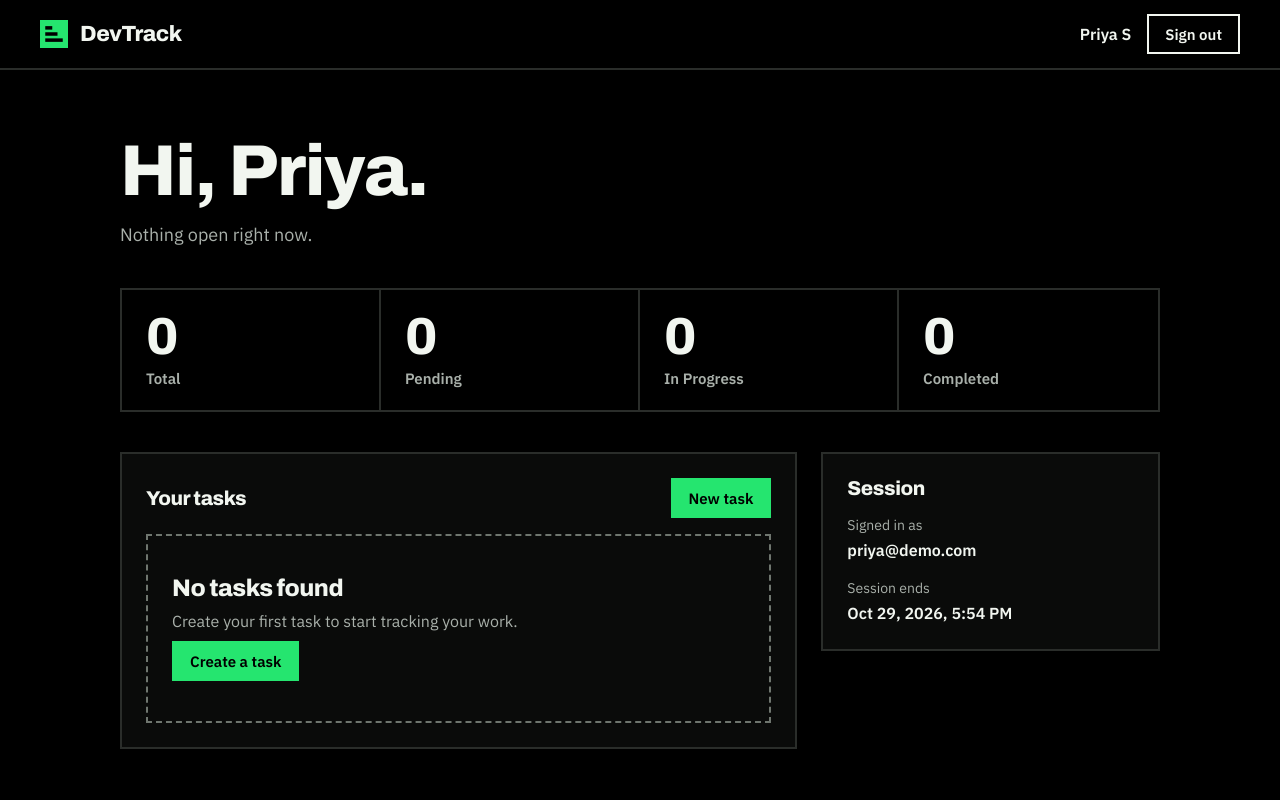
it: Sign out (FR-13) › removes a sessionStorage session as well (not "Keep me signed in")
Click the button "Sign out" at (1194, 34), box [1147,14,1240,54]
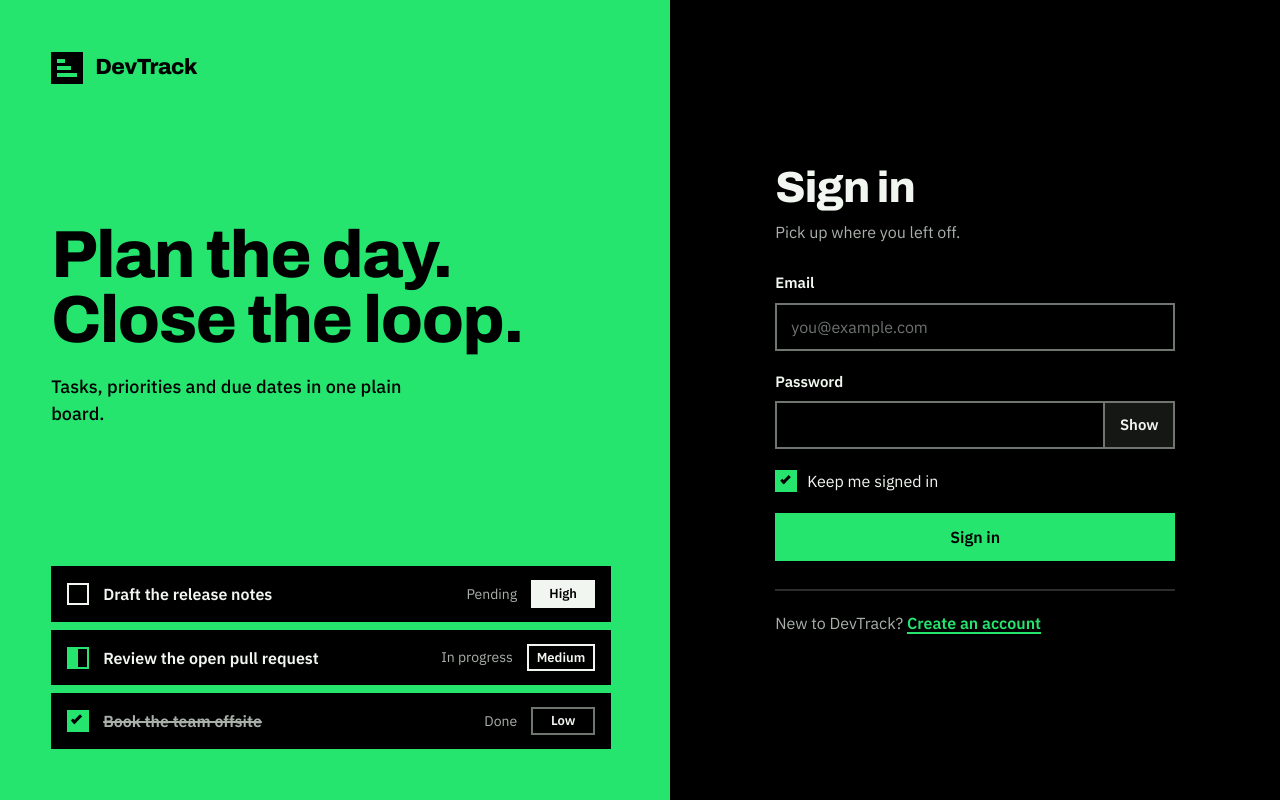
Expected: the heading "Sign in" is shown, [775,164,915,211]
